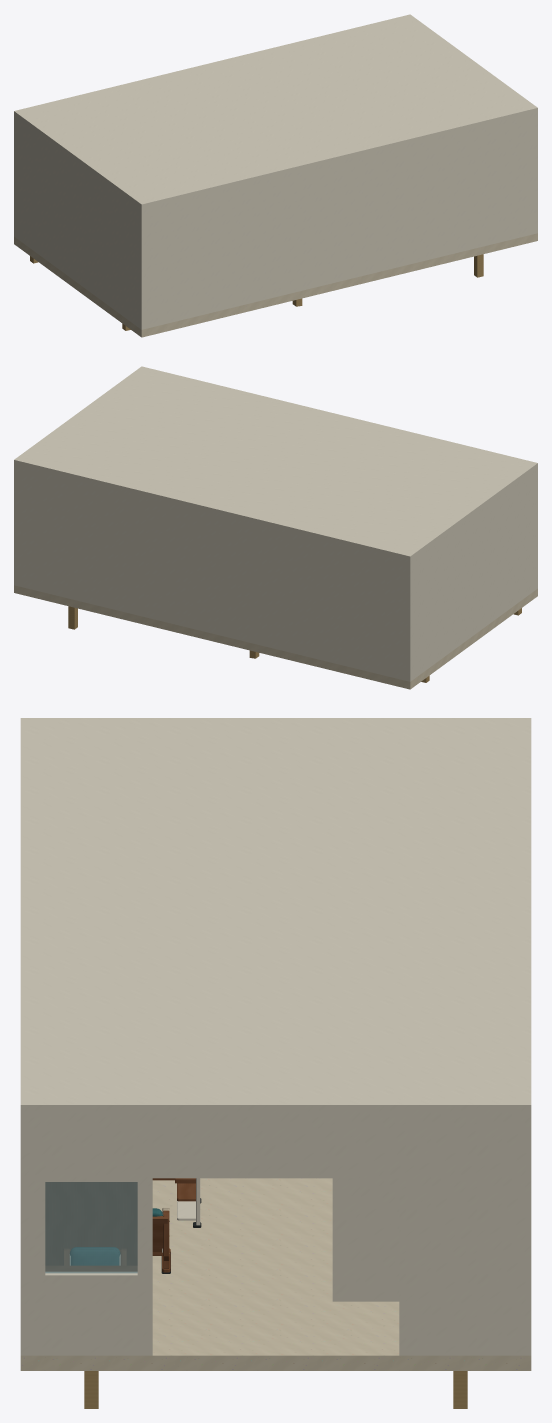
Rendered from StarAtlasSpecialty_431.glb.
3 renders of one model, top to bottom at view 1: azimuth 30°, elevation 25°; view 2: azimuth 150°, elevation 25°; view 3: azimuth 270°, elevation 25°, orthographic. The views are drawn at different scales.
Visible parts, largest first — view 1: SA431_Ceiling, SA431_NorthSide, SA431_OpaqueRearBoundary, SA431_RoomFloor; view 2: SA431_Ceiling, SA431_SouthSide, SA431_OpaqueRearBoundary, SA431_RoomFloor; view 3: SA431_Ceiling, SA431_RoomFloor, SA431_EntryShoulderSouth, SA431_EntryHeader, SA431_StreetWindowLower, SA431_ScreenedStreetGlass, SA431_WashEntrySide, SA431_StreetWindowUpper, SA431_EntryPrivacyDogleg, SA431_NorthSide, SA431_SouthSide, SA431_StreetWindowOuterPier (+2 smaller).
Part boxes in pixels (bbox=[...]): SA431_Ceiling: bbox=[14, 14, 537, 209]; SA431_NorthSide: bbox=[139, 113, 537, 329]; SA431_OpaqueRearBoundary: bbox=[16, 118, 139, 327]; SA431_RoomFloor: bbox=[14, 233, 537, 337]; SA431_Ceiling: bbox=[14, 366, 537, 561]; SA431_SouthSide: bbox=[14, 465, 412, 681]; SA431_OpaqueRearBoundary: bbox=[412, 470, 535, 679]; SA431_RoomFloor: bbox=[14, 585, 537, 689]; SA431_Ceiling: bbox=[20, 718, 531, 1115]; SA431_RoomFloor: bbox=[20, 1178, 531, 1370]; SA431_EntryShoulderSouth: bbox=[399, 1115, 522, 1355]; SA431_EntryHeader: bbox=[148, 1115, 403, 1178]; SA431_StreetWindowLower: bbox=[29, 1272, 152, 1355]; SA431_ScreenedStreetGlass: bbox=[45, 1182, 137, 1273]; SA431_WashEntrySide: bbox=[332, 1178, 399, 1301]; SA431_StreetWindowUpper: bbox=[29, 1115, 152, 1181]; SA431_EntryPrivacyDogleg: bbox=[45, 1182, 137, 1265]; SA431_NorthSide: bbox=[20, 1115, 28, 1355]; SA431_SouthSide: bbox=[523, 1115, 531, 1355]; SA431_StreetWindowOuterPier: bbox=[29, 1182, 45, 1275].
Size of the model in its own units: 12.9 by 5.31 by 7.2.
Materials: 67 (49 with a texture image).
